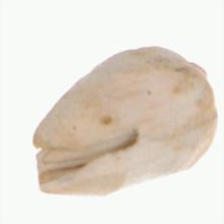L3: (30, 138, 51, 193)
L4: (32, 47, 217, 195)
